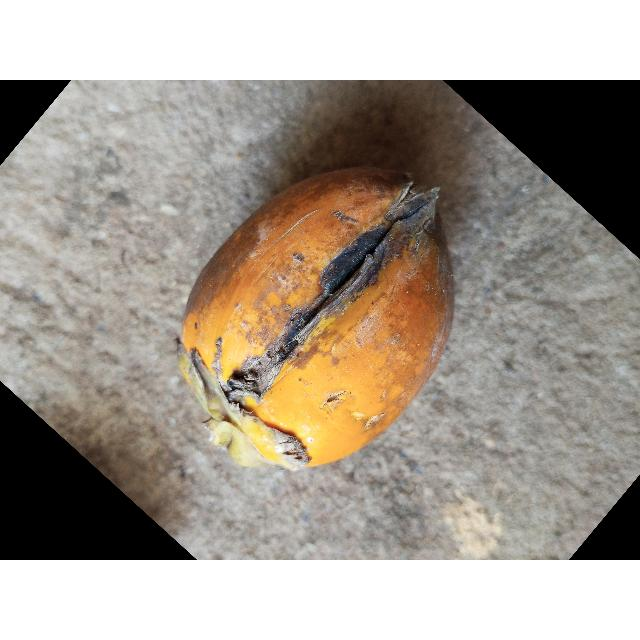damaged: (179, 168, 455, 473)
